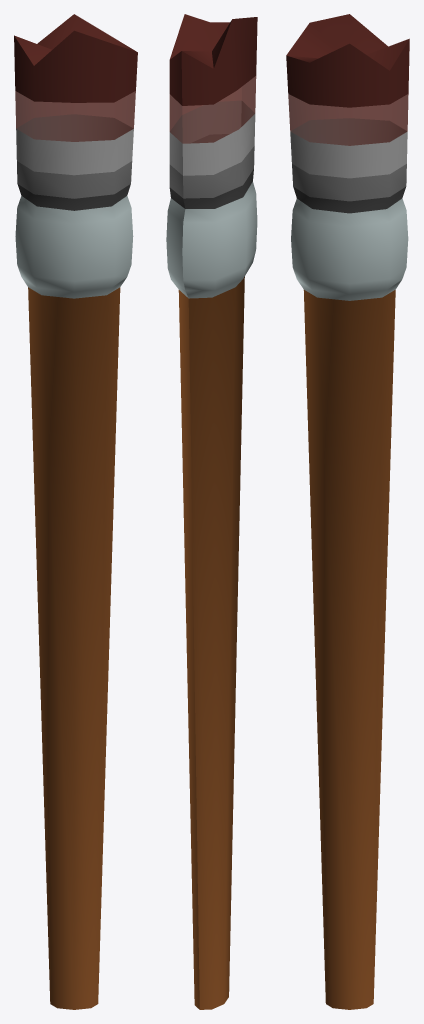
The model's file is brush_type0.fbx.
3 renders of one model, left to right at view 1: azimuth 90°, elevation 25°; view 2: azimuth 150°, elevation 25°; view 3: azimuth 270°, elevation 25°, orthographic.
Parts seen in each view (by area): view 1: brush; view 2: brush; view 3: brush.
Boxes of the visible parts, x1,y1,x2,y2 form: brush: (14,14,137,1009); brush: (166,14,257,1009); brush: (286,14,409,1009).
Size of the model in its own units: 19.77 by 268 by 30.57.
